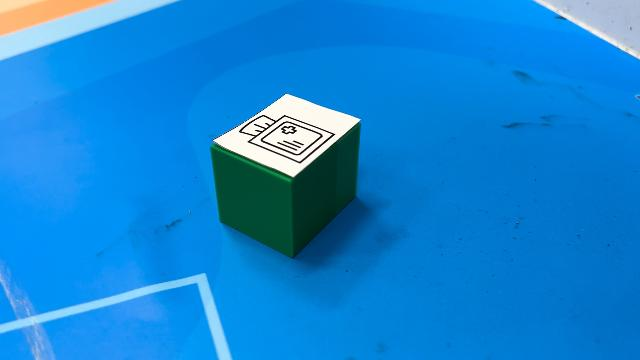napkin: (209, 92, 363, 258)
